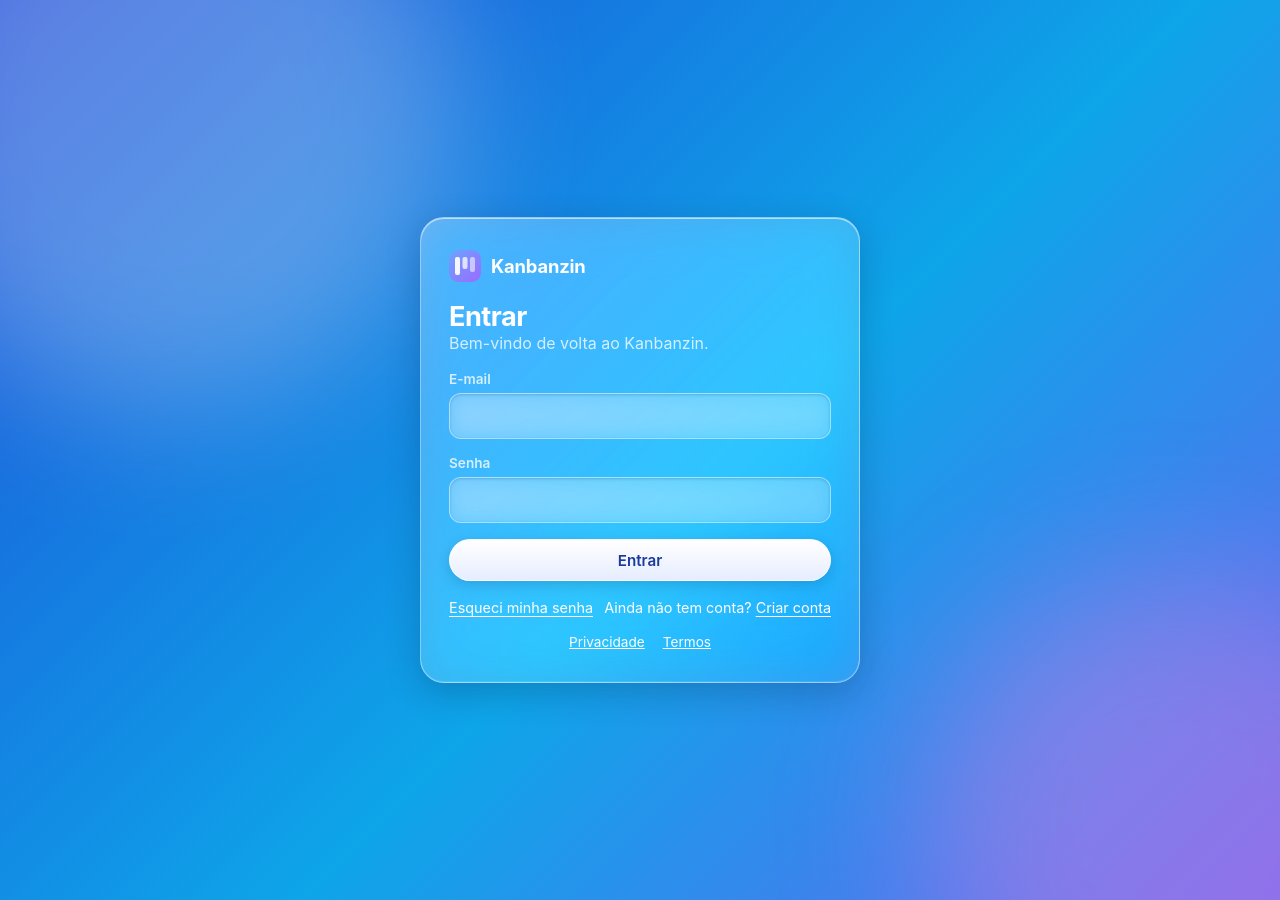
auth pages › shows a friendly message for wrong credentials
In the field labelled "E-mail": (640, 416) [449,393,831,439], type "ada@example.com"
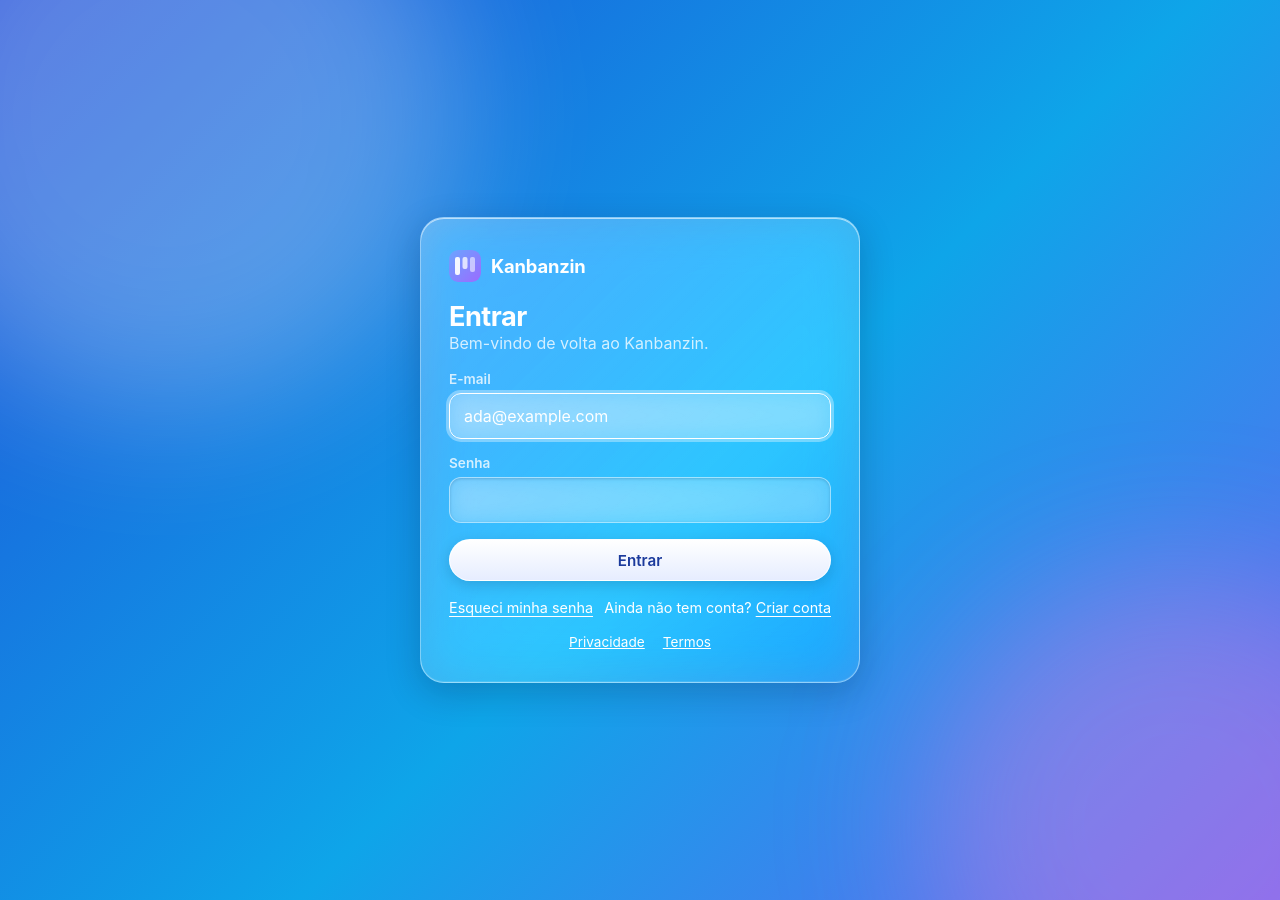
In the password field labelled "Senha": (640, 500) [449,477,831,523], type "wrong-password"
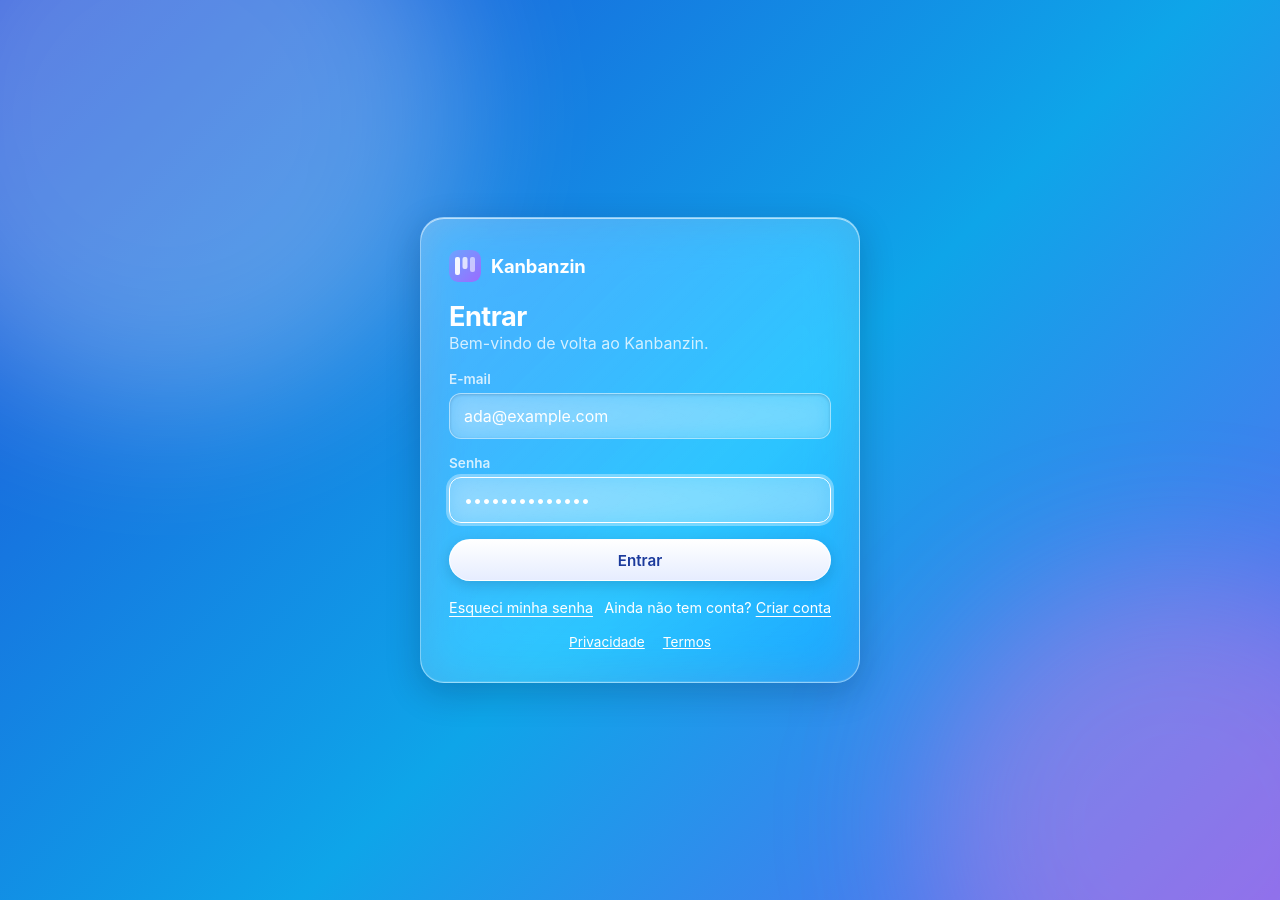
Click the button "Entrar": (640, 560) [449,539,831,581]
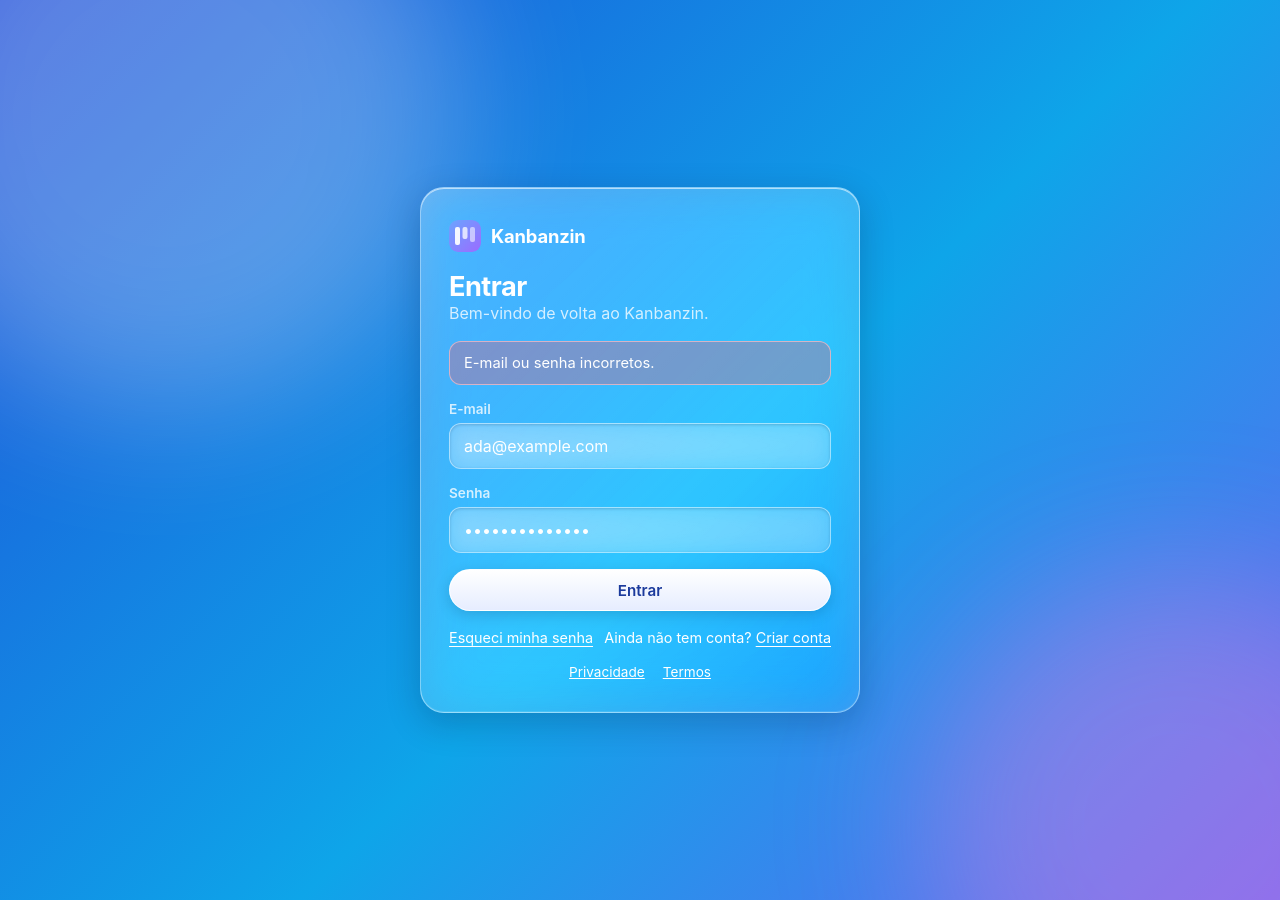
Check: the message reads "E-mail ou senha incorretos.", box [464,354,654,372]
